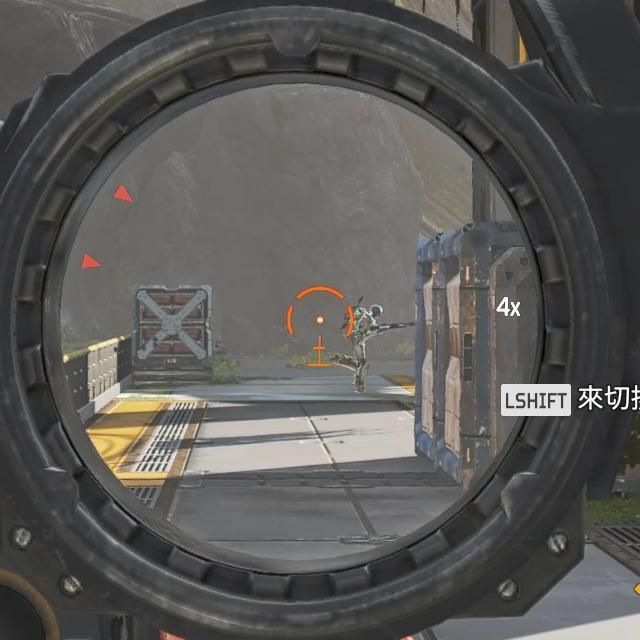avatar: (344, 302, 387, 395)
